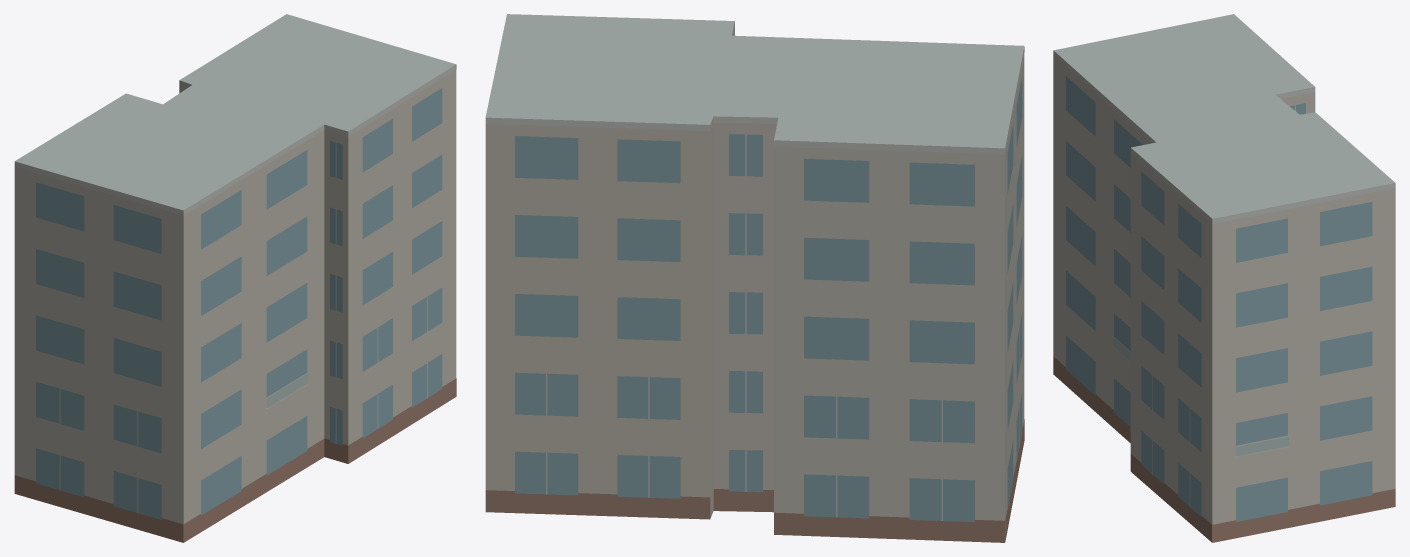
The model's file is survey-upis-32695654.glb.
The picture shows the model from 3 angles, left to right: view 1: azimuth 30°, elevation 25°; view 2: azimuth 150°, elevation 25°; view 3: azimuth 270°, elevation 25°; orthographic projection. The views are drawn at different scales.
Parts seen in each view (by area): view 1: survey-upis-32695654.tmp; view 2: survey-upis-32695654.tmp; view 3: survey-upis-32695654.tmp.
Part boxes in pixels (x1,y1,x2,y2): survey-upis-32695654.tmp: (14,14,456,542); survey-upis-32695654.tmp: (485,14,1024,542); survey-upis-32695654.tmp: (1053,14,1395,542).
Bounding box in the file's own units: 20.69 × 15.25 × 14.6.
